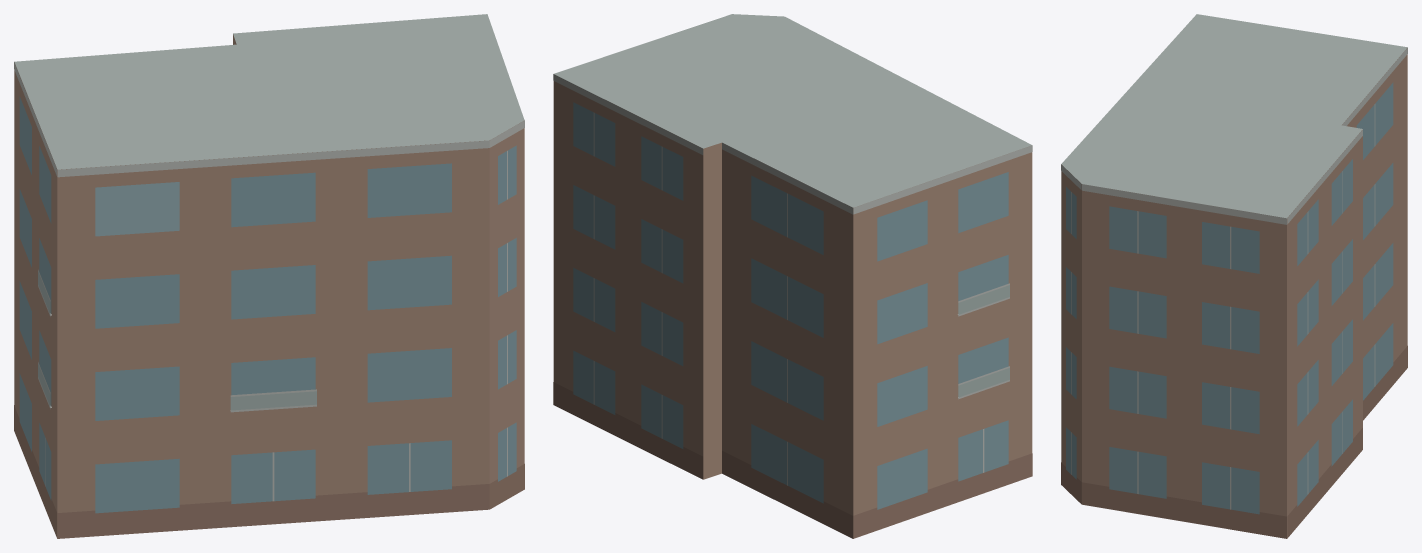
Rendered from survey-upis-32880040.glb.
3 renders of one model, left to right at view 1: azimuth 30°, elevation 25°; view 2: azimuth 150°, elevation 25°; view 3: azimuth 270°, elevation 25°, orthographic. The views are drawn at different scales.
Visible parts, largest first — view 1: survey-upis-32880040.tmp; view 2: survey-upis-32880040.tmp; view 3: survey-upis-32880040.tmp.
Boxes of the visible parts, x1,y1,x2,y2 form: survey-upis-32880040.tmp: (14,14,524,538); survey-upis-32880040.tmp: (553,14,1032,538); survey-upis-32880040.tmp: (1061,14,1407,538).
Size of the model in its own units: 16.13 by 11.8 by 11.57.
